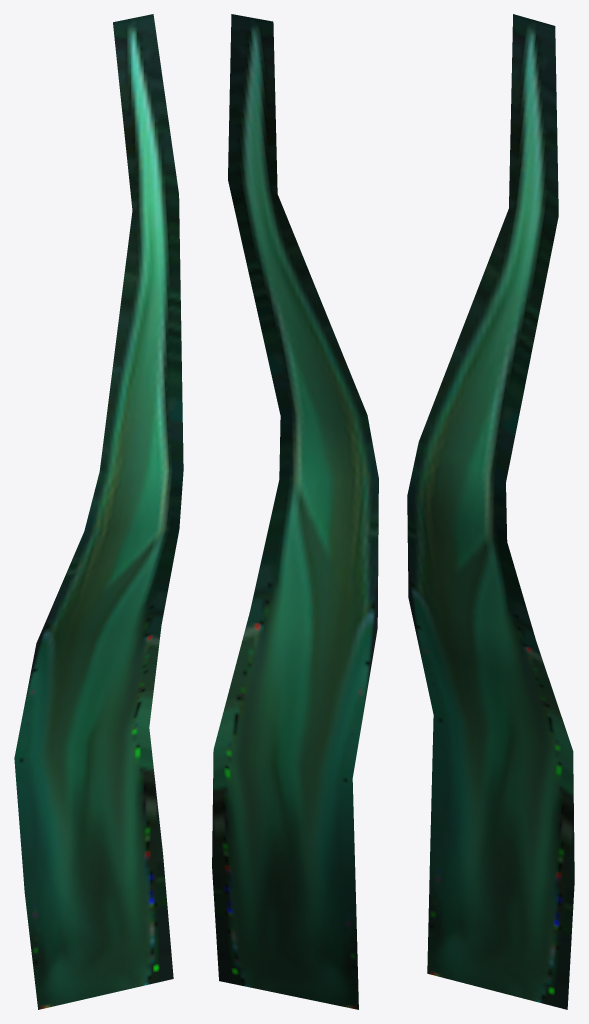
File: pond_grass03.glb
3 renders of one model, left to right at view 1: azimuth 30°, elevation 25°; view 2: azimuth 150°, elevation 25°; view 3: azimuth 330°, elevation 25°, orthographic.
Parts seen in each view (by area): view 1: water_grass_03_Plants_0; view 2: water_grass_03_Plants_0; view 3: water_grass_03_Plants_0.
Boxes of the visible parts, left/top/right/bottom form: water_grass_03_Plants_0: left=14, top=14, right=183, bottom=1009; water_grass_03_Plants_0: left=212, top=14, right=378, bottom=1009; water_grass_03_Plants_0: left=407, top=14, right=574, bottom=1009.
Bounding box in the file's own units: 0.0438 × 0.2749 × 0.0265.
Materials: 1 (1 with a texture image).
